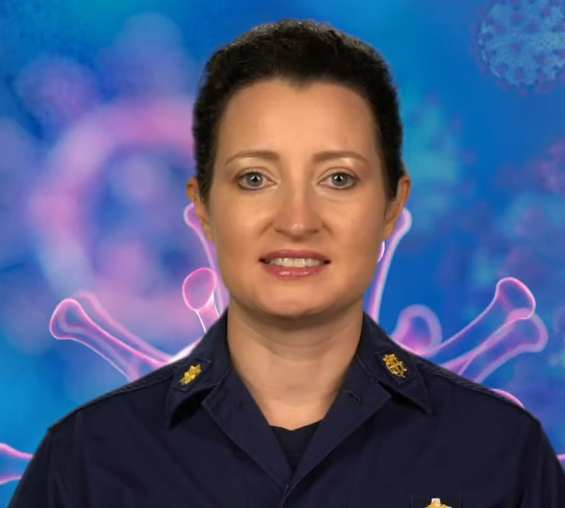without_mask: (197, 71, 409, 316)
